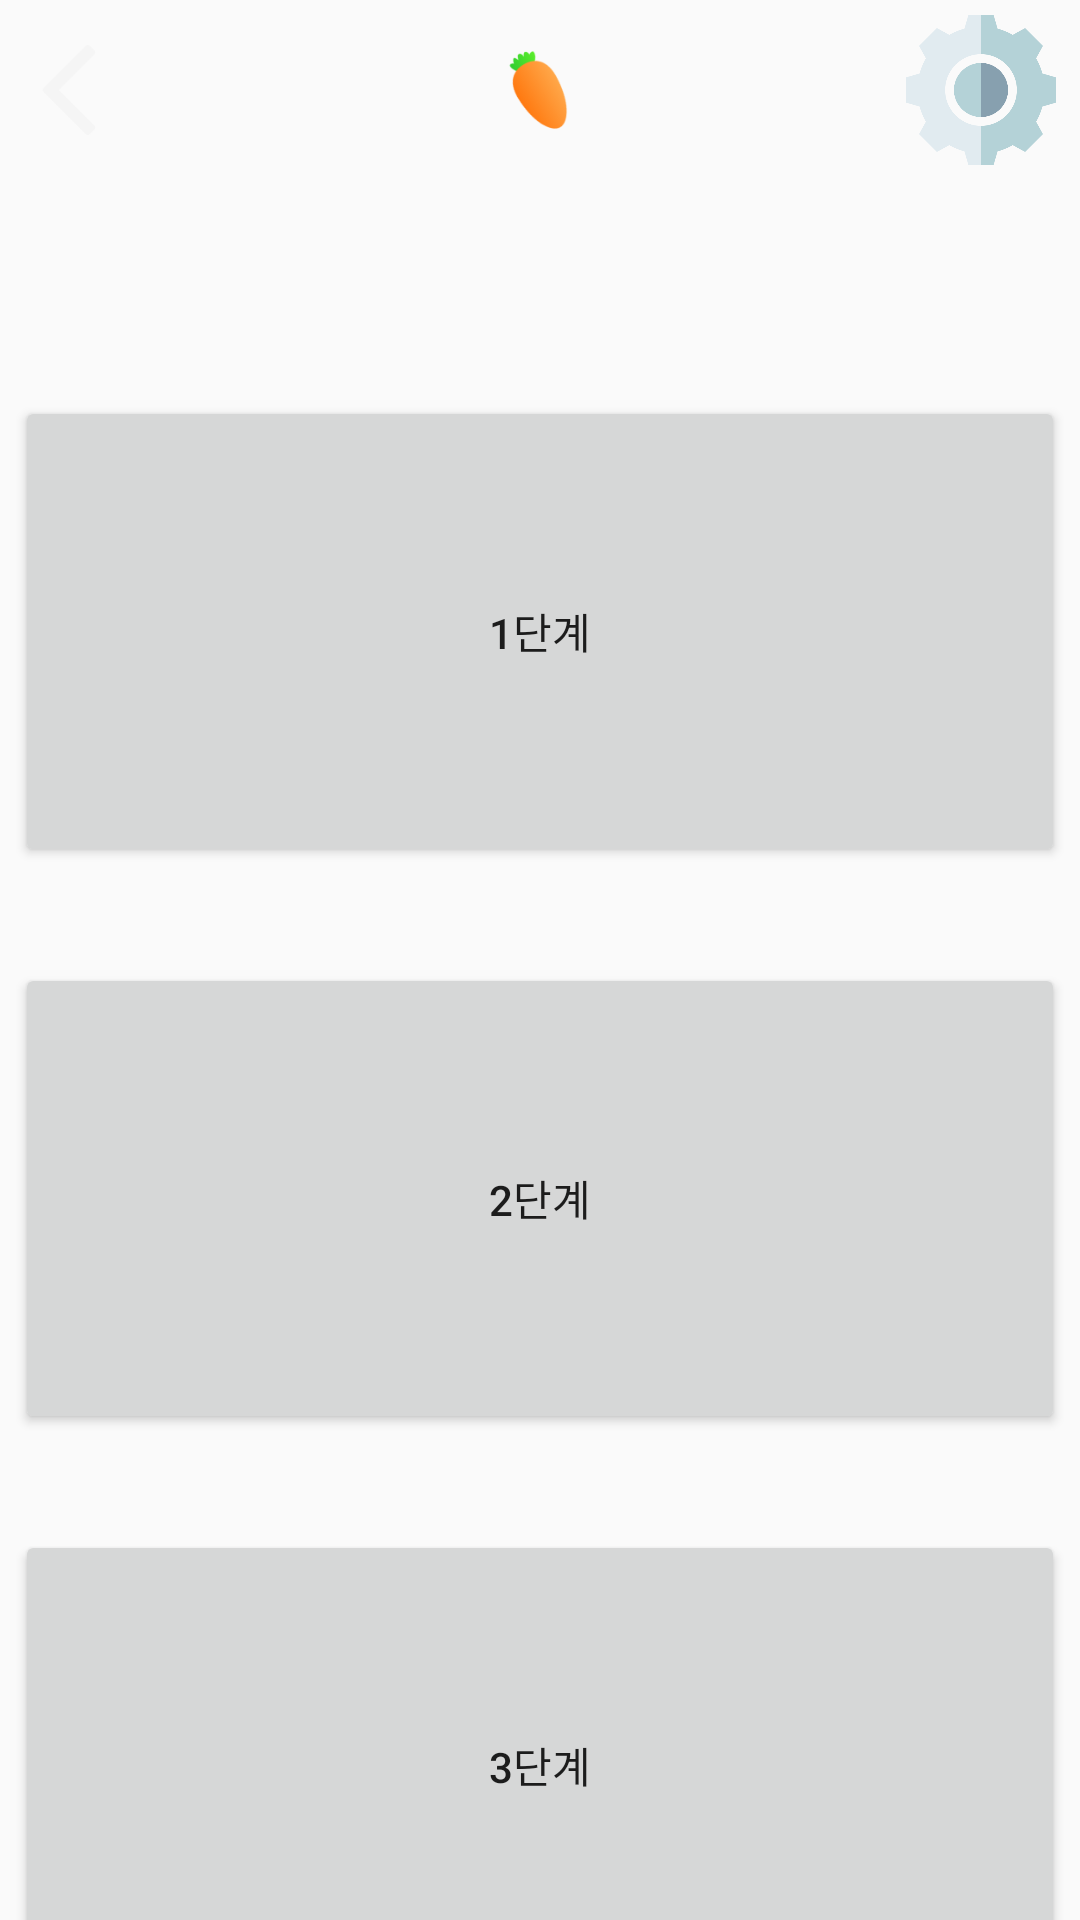

Where to tap for icons on this 1080x1920 app screen, as (x=x, y=y):
carrot: (x=538, y=90)
setting: (x=981, y=90)
